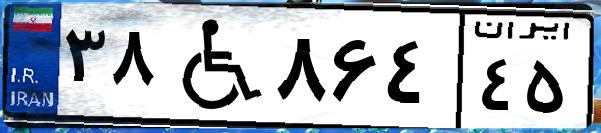3: (57, 26, 110, 100)
4: (385, 28, 445, 110), (475, 38, 525, 113)
5: (525, 38, 570, 115)
6: (330, 28, 385, 110)
8: (270, 28, 330, 110), (110, 28, 158, 98)
ژ (معلولین و جانبازان): (158, 12, 270, 120)
